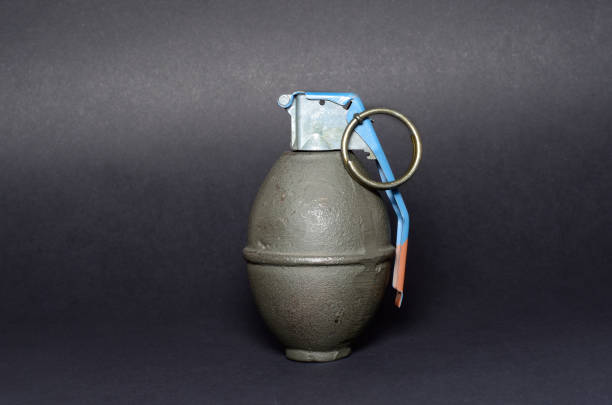e1: (245, 91, 424, 365)
